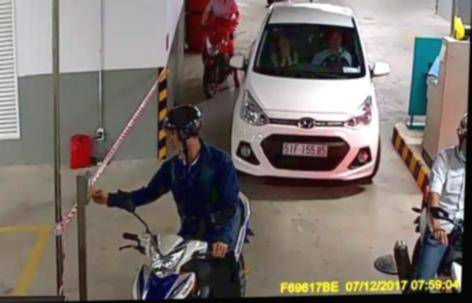License_Plate: (278, 138, 331, 159)
